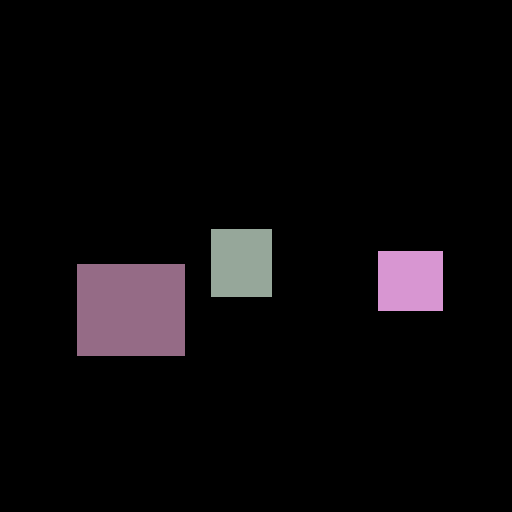rectangle: (77, 264, 184, 355), (211, 229, 271, 296)
square: (378, 251, 442, 310)
